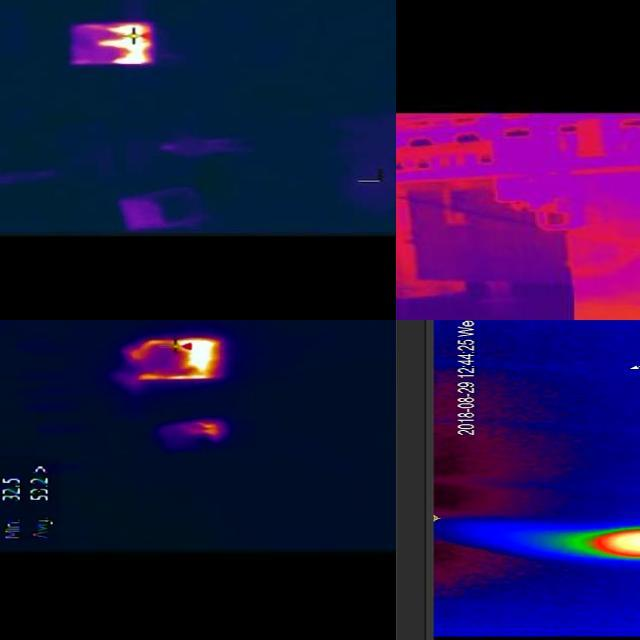fire: (126, 335, 221, 382), (91, 21, 157, 65), (571, 526, 640, 559), (188, 420, 227, 438)
